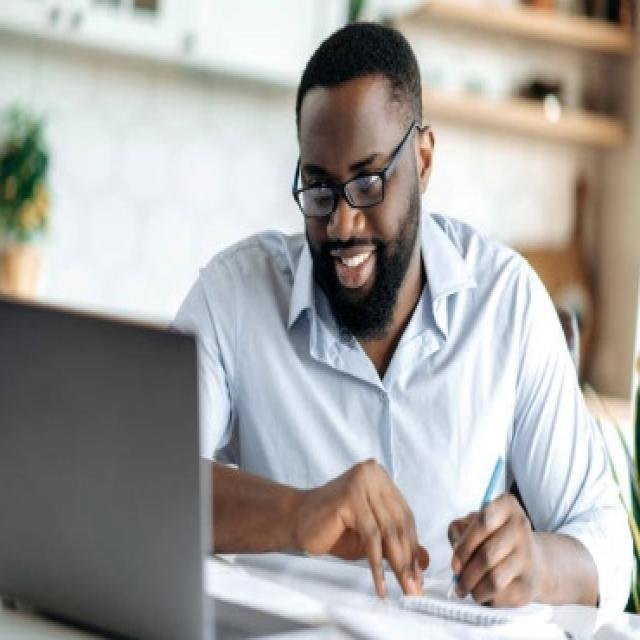adult: (180, 15, 634, 600)
